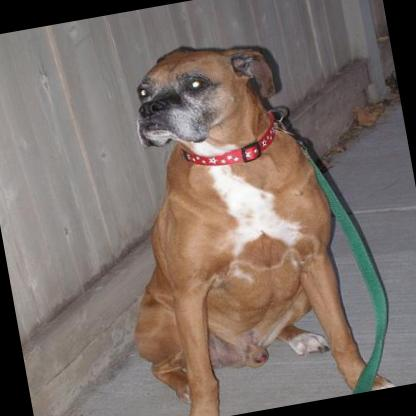boxer: (59, 0, 399, 416)
